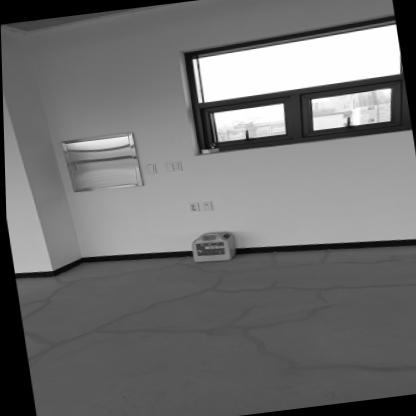DDL: (189, 230, 235, 264)
